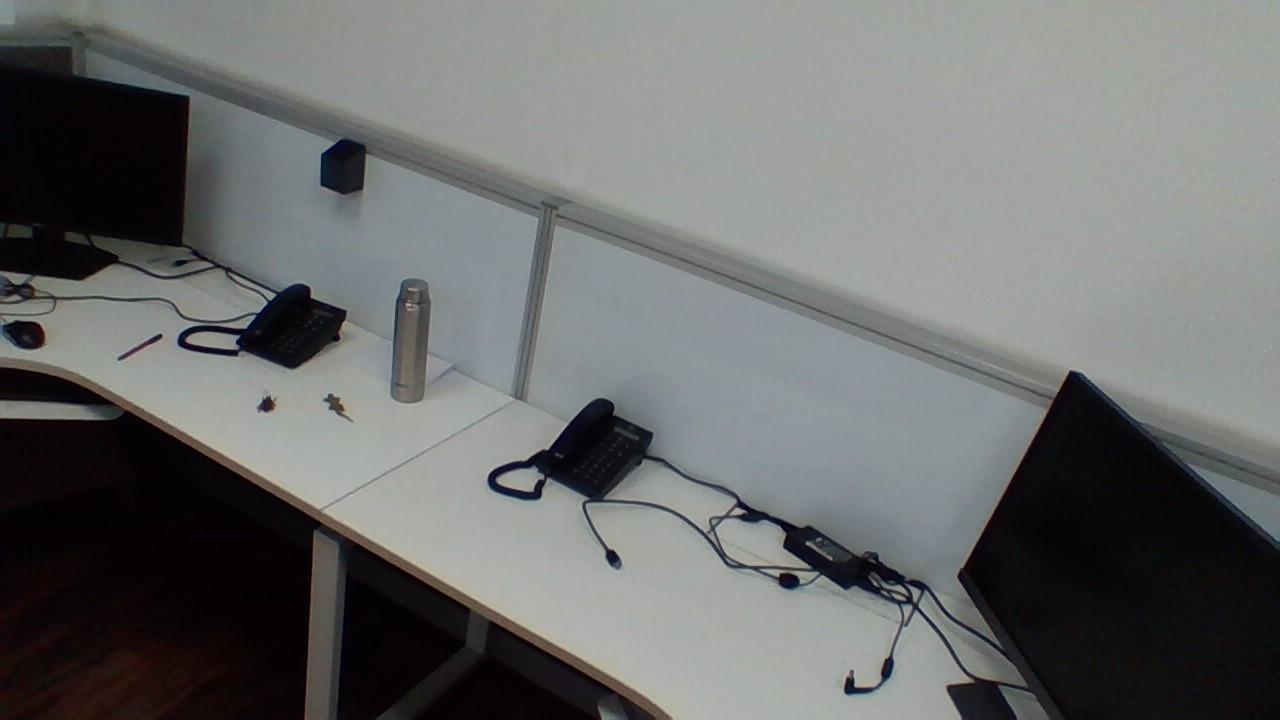cockroach: (255, 386, 280, 420)
lizard: (320, 386, 353, 424)
